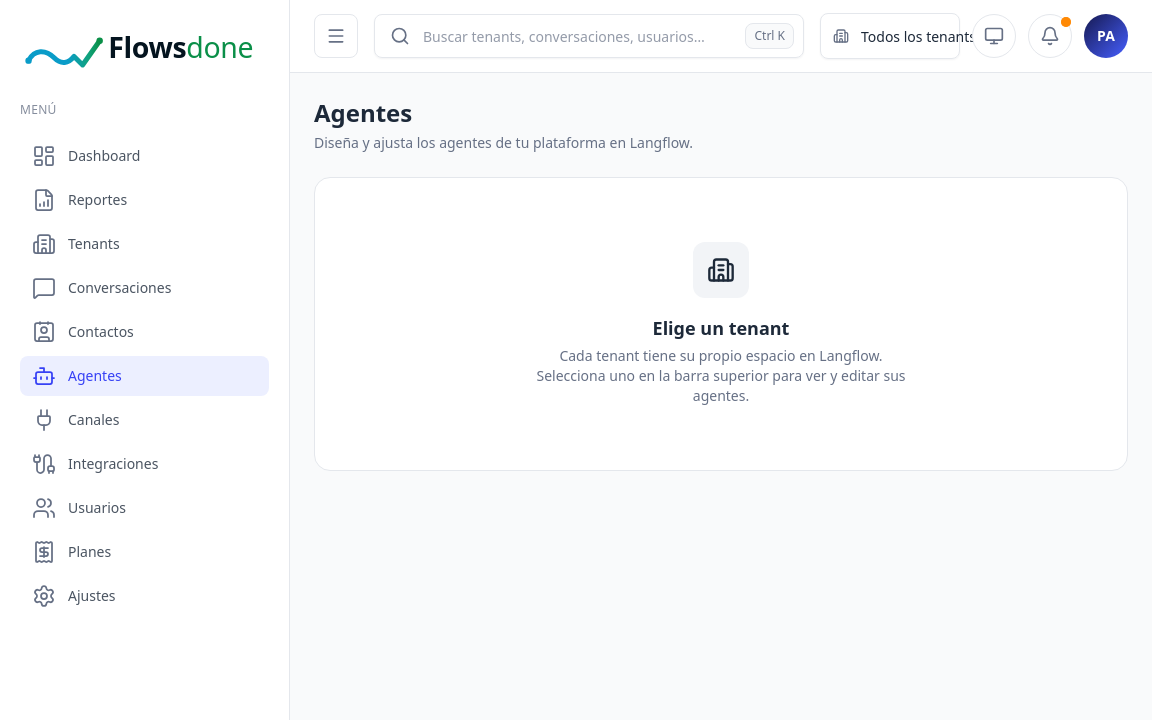
Agentes: registro y gestión › lista los agentes del proyecto con su flujo y cuál es el predeterminado
Select "Clínica Vital" in the dropdown named "Tenant activo" at (928, 36), box left=857, top=14, right=998, bottom=58
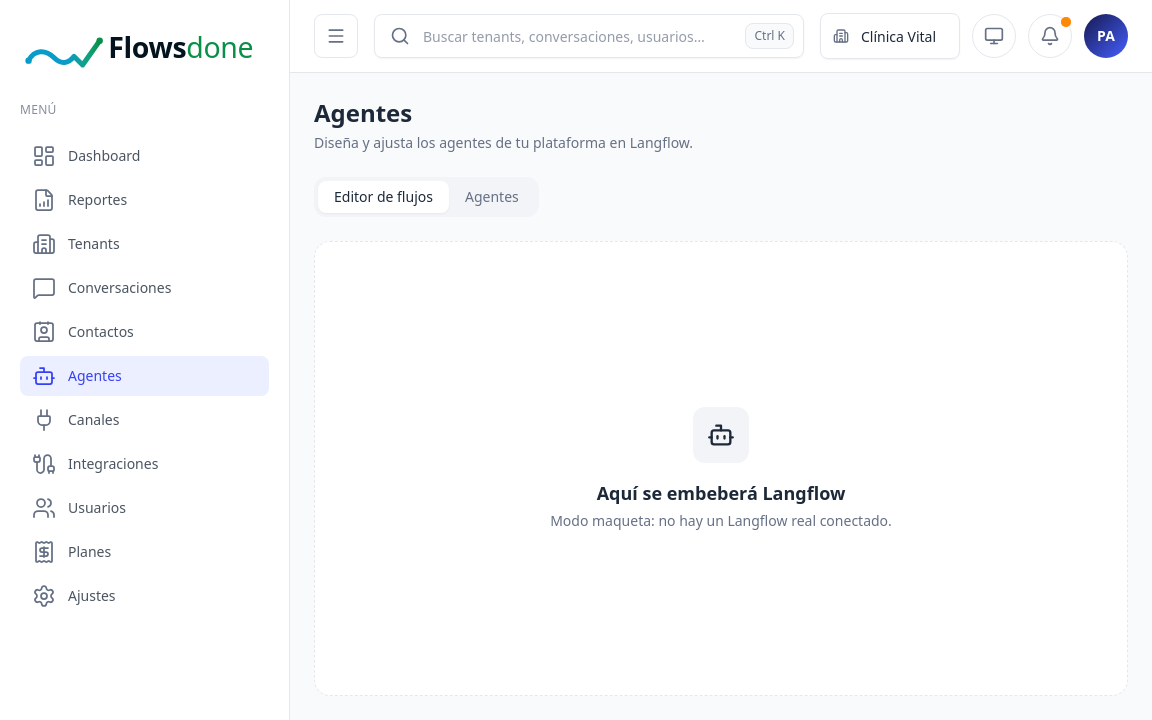
Click the tab "Agentes".
click(492, 197)  # box left=449, top=181, right=535, bottom=213
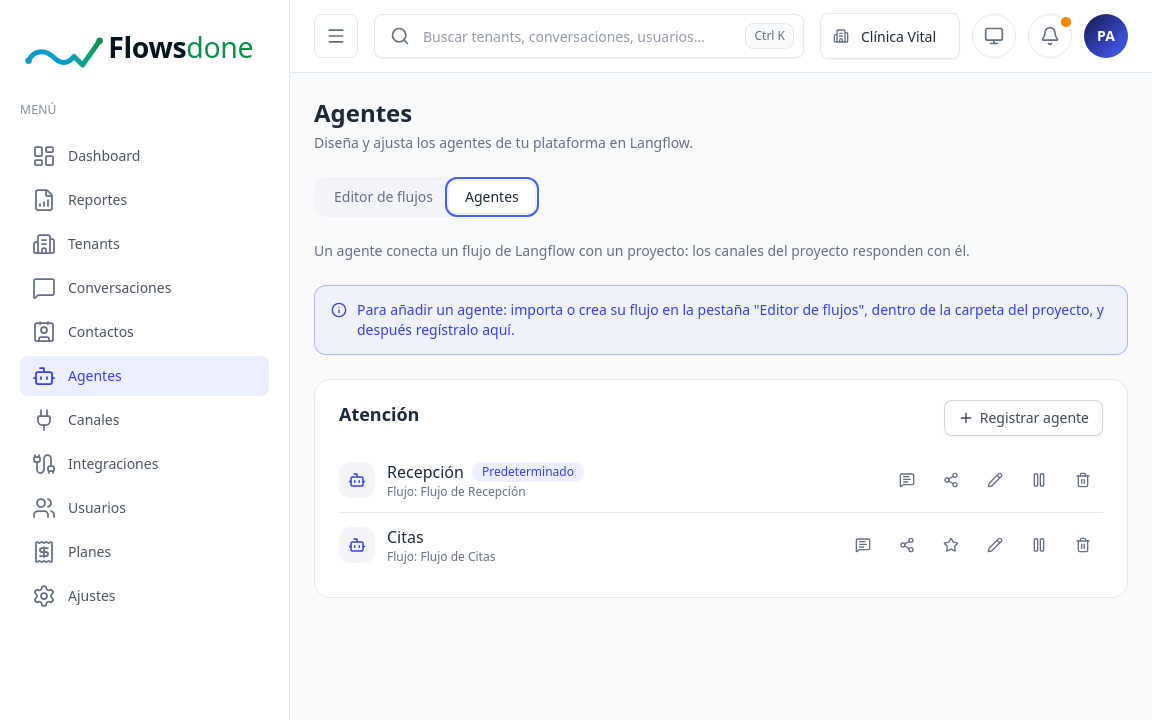
Expected: the list item "Citas Flujo: Flujo de Citas" does not show "Predeterminado", left=339, top=513, right=1103, bottom=577
Expected: the list item "Recepción Predeterminado Flujo: Flujo de Recepción" is shown, left=339, top=448, right=1103, bottom=513
Expected: the text "Flujo: Flujo de Recepción" is shown, left=387, top=483, right=526, bottom=500
